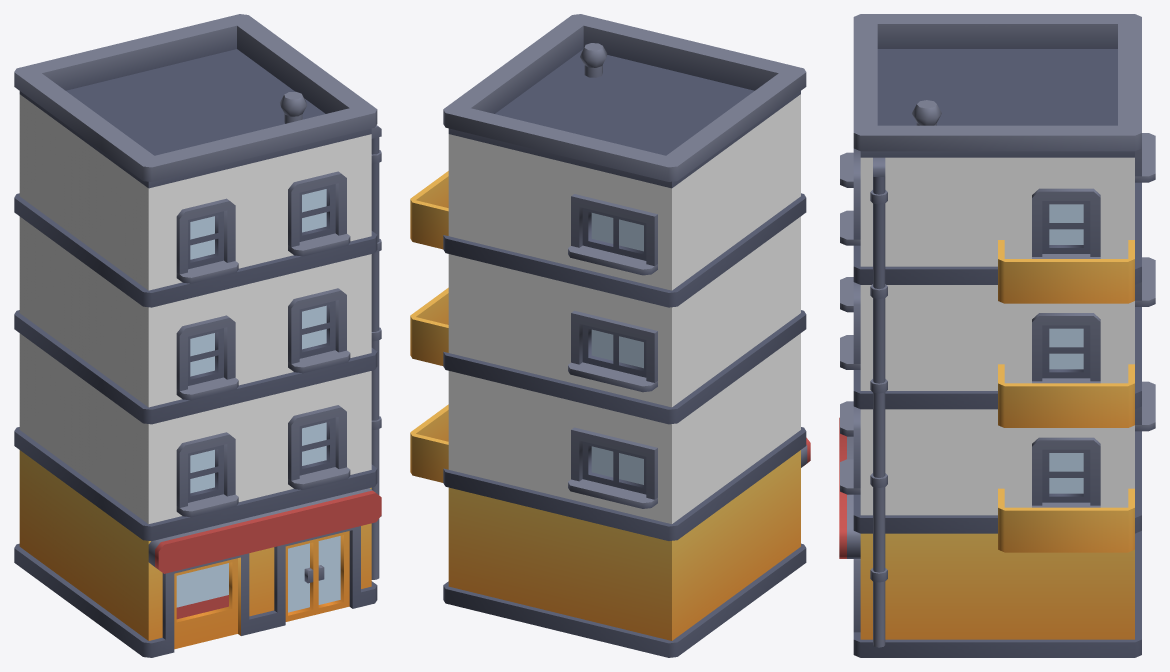
Rendered from shop_level2.glb.
The picture shows the model from 3 angles, left to right: view 1: azimuth 30°, elevation 25°; view 2: azimuth 150°, elevation 25°; view 3: azimuth 270°, elevation 25°; orthographic projection. The views are drawn at different scales.
Parts seen in each view (by area): view 1: building-g; view 2: building-g; view 3: building-g.
Part boxes in pixels (x1,y1,x2,y2): building-g: (14, 14, 381, 657); building-g: (410, 14, 810, 657); building-g: (839, 14, 1155, 657).
Bounding box in the file's own units: 1.16 × 2.03 × 1.11.
Materials: 1 (1 with a texture image).
